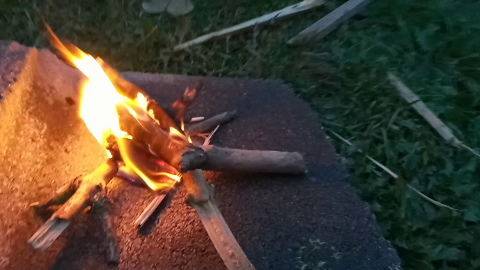fire: (39, 22, 209, 199)
